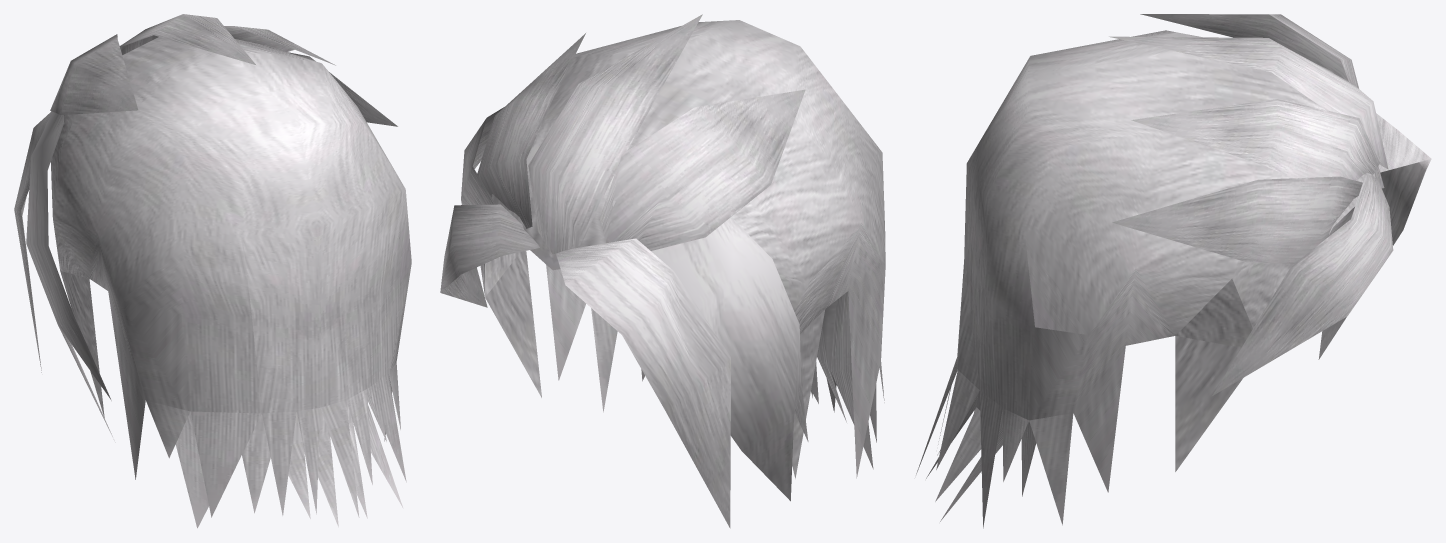
File: Martial arts male hair 39.glb
3 views of the same model, side by side, from view 1: azimuth 30°, elevation 25°; view 2: azimuth 150°, elevation 25°; view 3: azimuth 270°, elevation 25° (orthographic). The views are drawn at different scales.
Visible parts, largest first — view 1: 武侠男头发39_0; view 2: 武侠男头发39_0; view 3: 武侠男头发39_0.
Part boxes in pixels (left/top/right/bottom): 武侠男头发39_0: left=14, top=14, right=411, bottom=528; 武侠男头发39_0: left=440, top=14, right=885, bottom=528; 武侠男头发39_0: left=916, top=14, right=1431, bottom=528.
Bounding box in the file's own units: 0.1739 × 0.2302 × 0.2407.
1 material, 1 textured.
